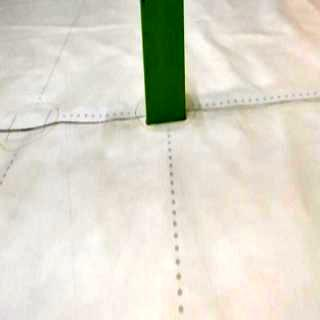greenbox: (138, 2, 188, 124)
